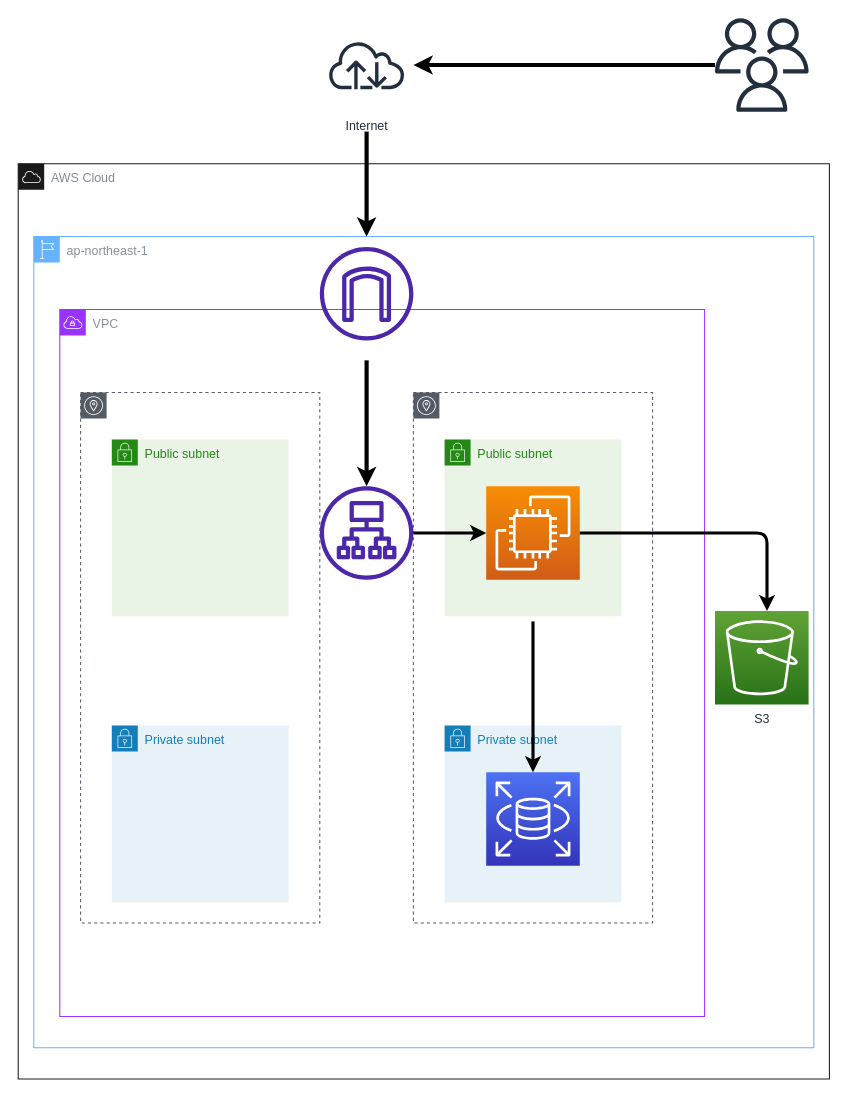
Image size: 848x1097. Some labels were removed from this diagram. The shapes that lost their labels are listed below. From the top down, each one's centre as x and y in pixels, then its label:
the point at 761,64: Users
the point at 366,293: IGW
the point at 366,532: ALB
the point at 532,532: EC2
the point at 532,818: RDS
